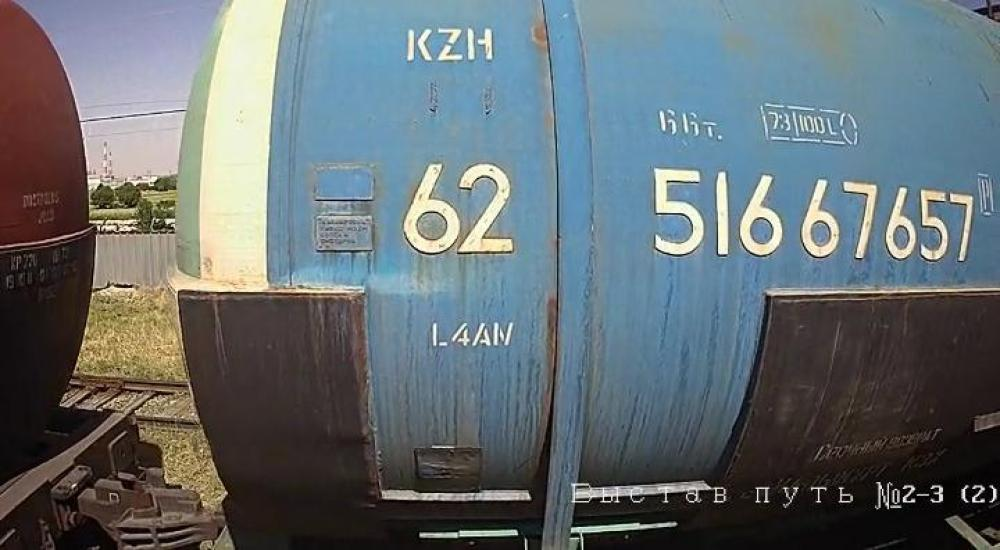Wagon-number: (646, 160, 978, 272)
